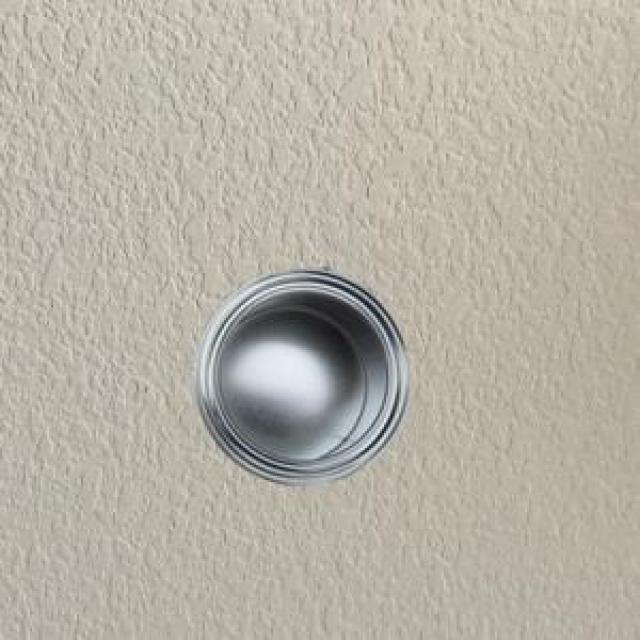Can: (193, 266, 409, 481)
